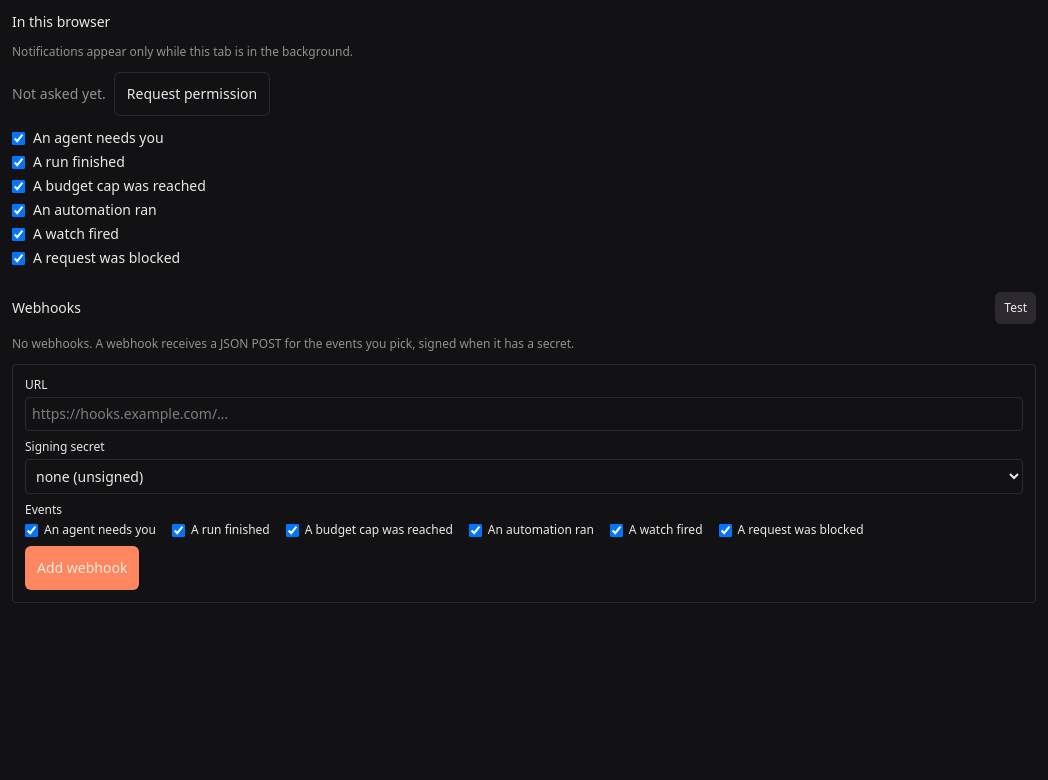
Scenario: Notifications settings › the webhook form posts the URL, secret ref and events
Type "https://hooks.example.com/x" into the field labelled "URL" at (524, 414), box [25,397,1023,431]
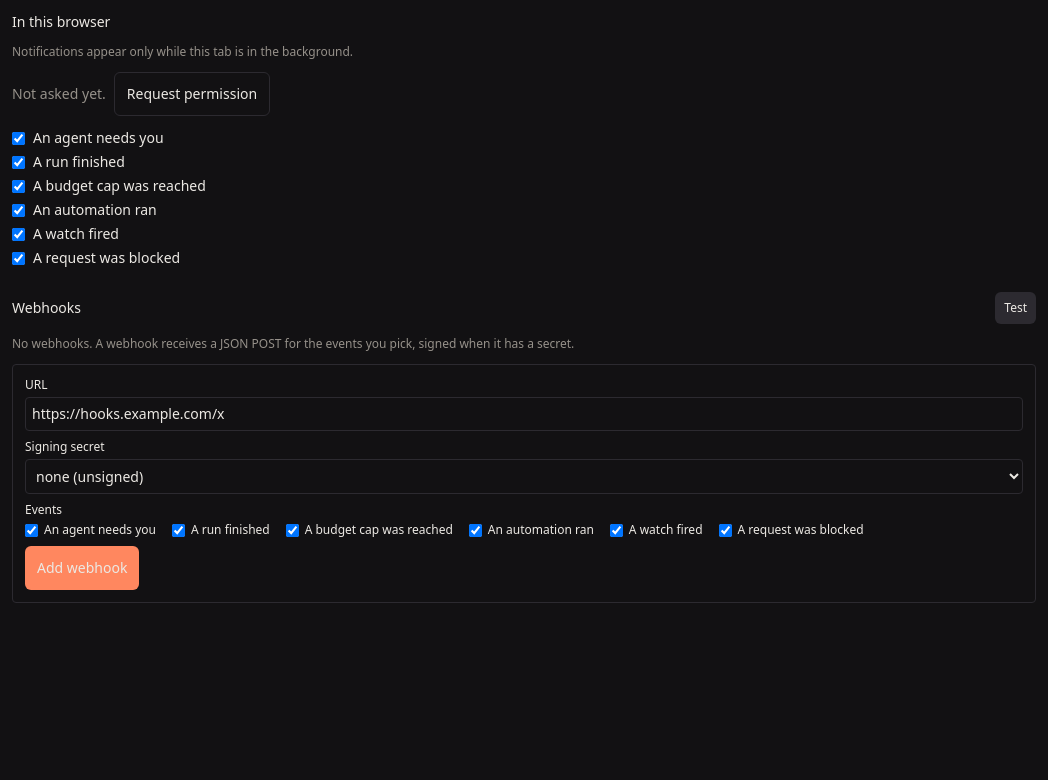
Select "vault:hooks/signing" in the dropdown labelled "Signing secret" at (524, 476), box [25,459,1023,494]
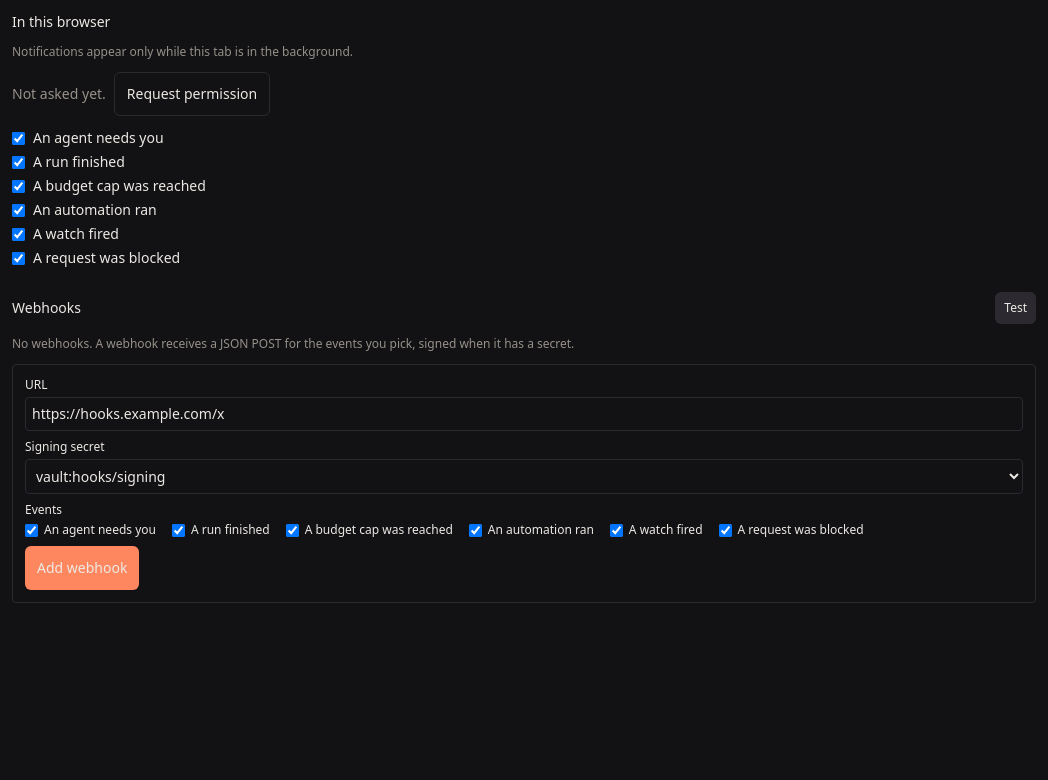
Click the checkbox named "Webhook event: A watch fired" at (616, 530), box [610,524,623,536]
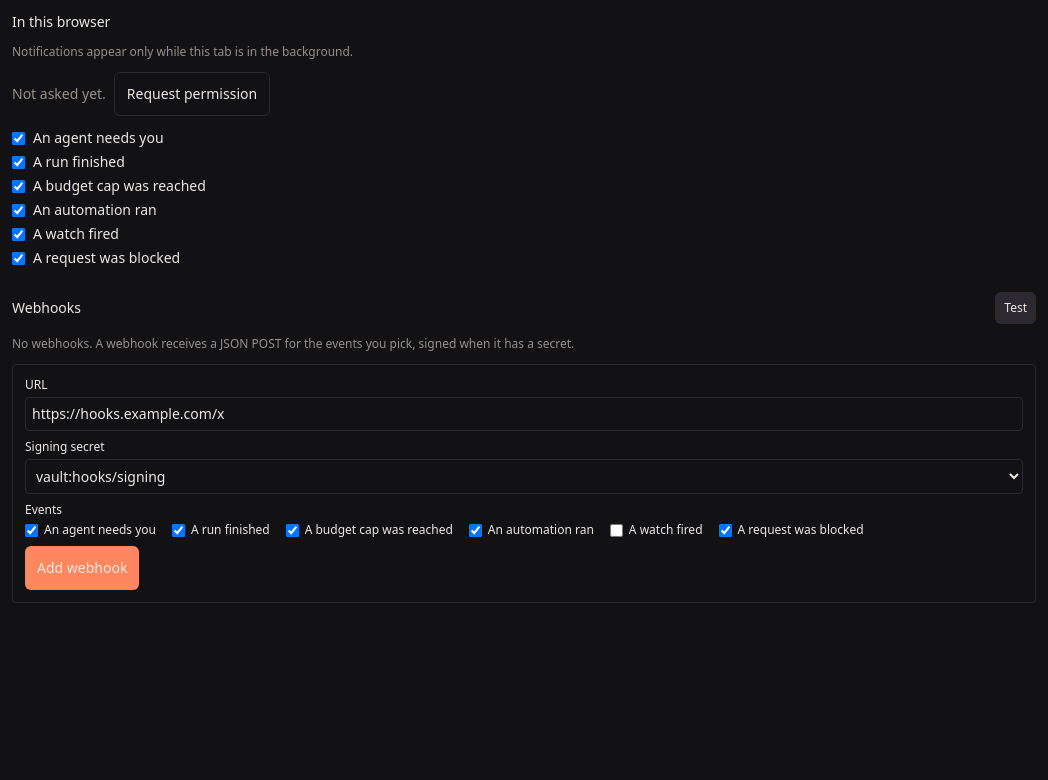
Click the button "Add webhook" at (82, 568), box [25,546,139,590]
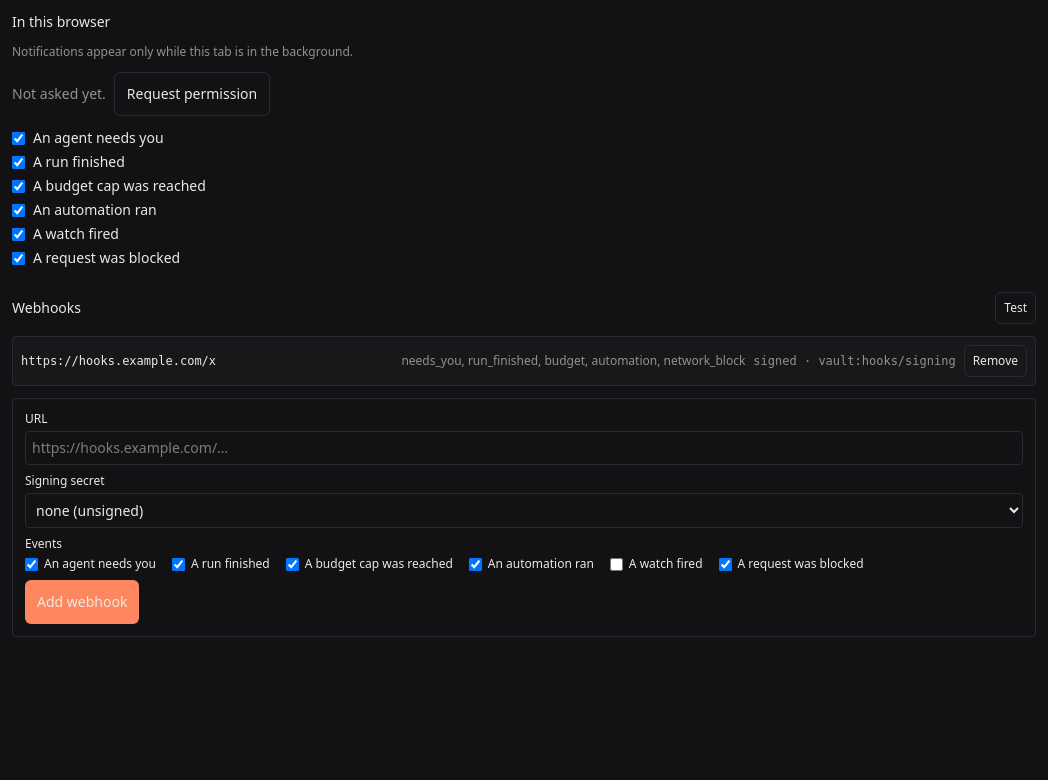
Expected: the element with test id "webhook" is shown, [12,336,1036,386]
